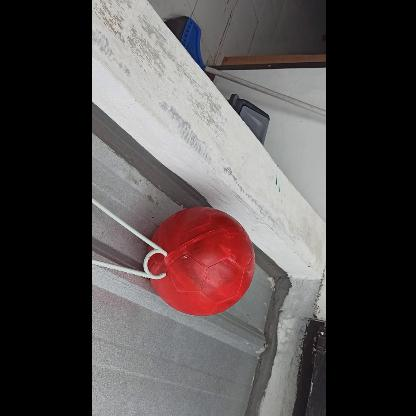red_ball: (147, 208, 257, 318)
